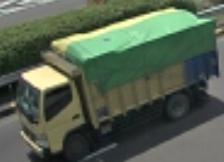truck: (8, 63, 97, 161)
